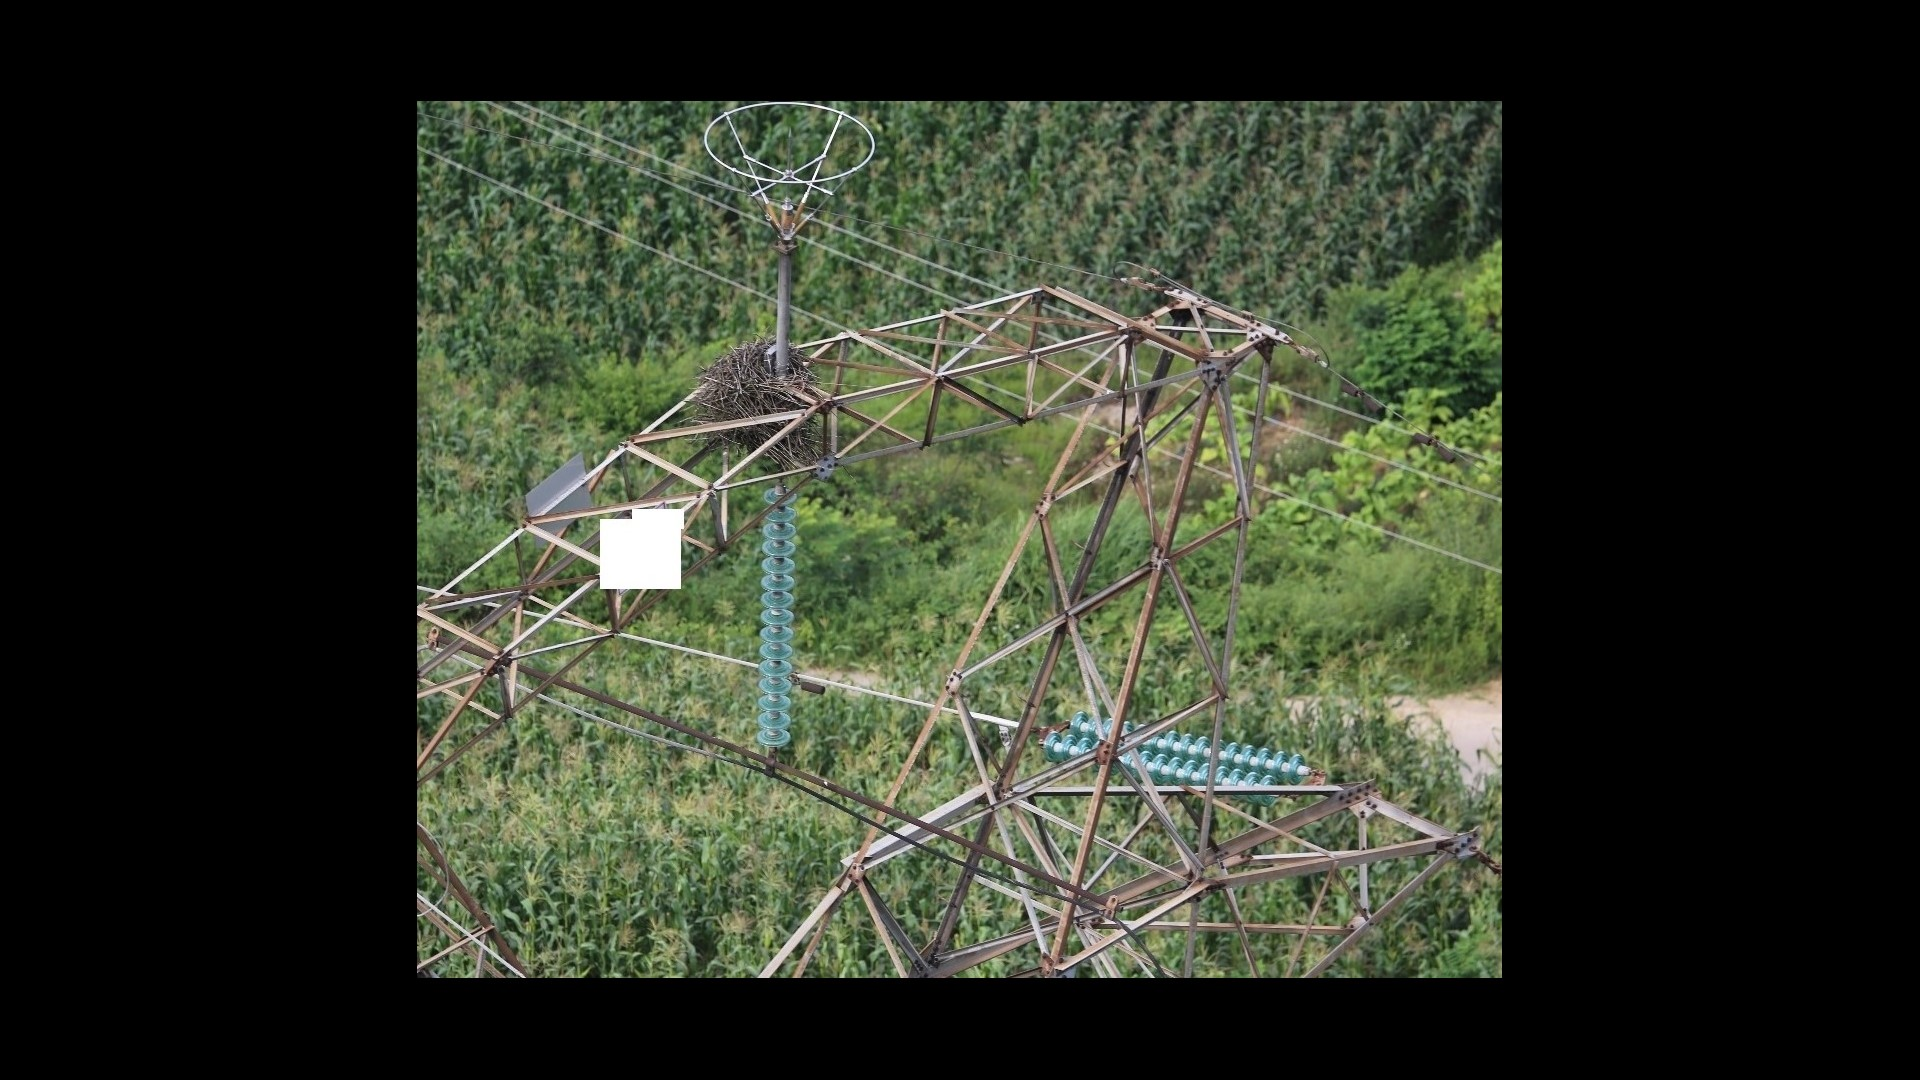niaowo: (690, 323, 833, 464)
